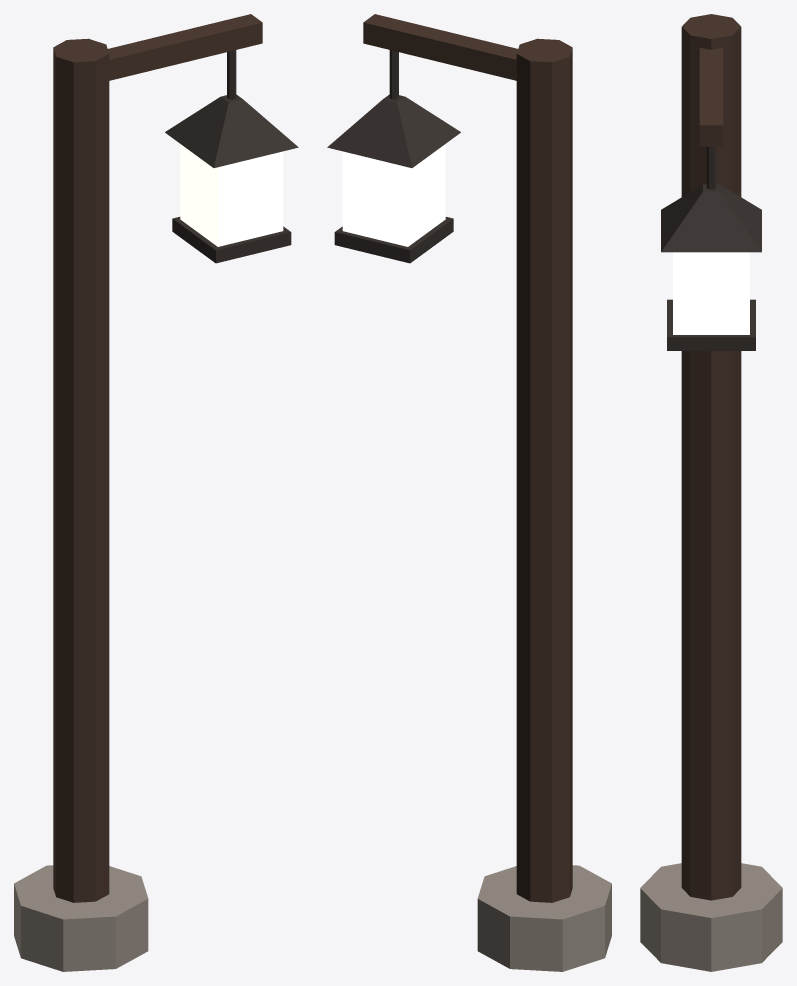
The model's file is lantern.glb.
3 renders of one model, left to right at view 1: azimuth 30°, elevation 25°; view 2: azimuth 150°, elevation 25°; view 3: azimuth 270°, elevation 25°, orthographic. The views are drawn at different scales.
Visible parts, largest first — view 1: Cylinder, Cylinder.001, Cube.001, Cone, Cube, Cube.002; view 2: Cylinder, Cylinder.001, Cube.001, Cone, Cube, Cube.002; view 3: Cylinder, Cylinder.001, Cube.001, Cone, Cube, Cube.002, Cylinder.002.
Part boxes in pixels (box(x1,y1,x2,y2)): Cylinder: box(53, 38, 109, 902); Cylinder.001: box(14, 865, 148, 971); Cube.001: box(180, 144, 283, 246); Cone: box(165, 94, 298, 167); Cube: box(108, 14, 262, 80); Cube.002: box(172, 217, 291, 263); Cylinder: box(516, 38, 572, 902); Cylinder.001: box(477, 865, 611, 971); Cube.001: box(342, 144, 445, 246); Cone: box(327, 94, 460, 167); Cube: box(363, 14, 517, 80); Cube.002: box(334, 217, 453, 263); Cylinder: box(681, 14, 741, 900); Cylinder.001: box(640, 863, 782, 971); Cube.001: box(673, 252, 749, 334); Cone: box(661, 184, 761, 252); Cube: box(699, 48, 723, 146); Cube.002: box(667, 299, 755, 350); Cylinder.002: box(706, 146, 716, 189).
Bounding box in the file's own units: 0.5049 × 1.7 × 0.24.
